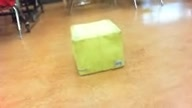cube: (70, 19, 125, 76)
